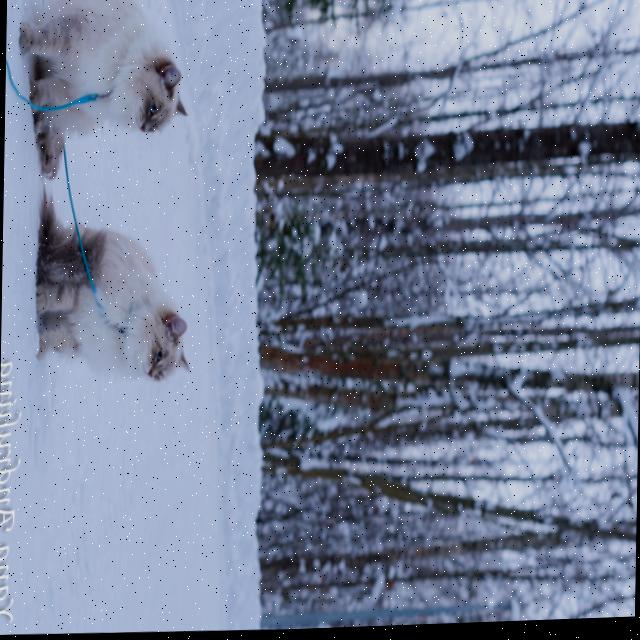Neva Masquerade: (28, 177, 200, 397), (12, 0, 194, 186)
